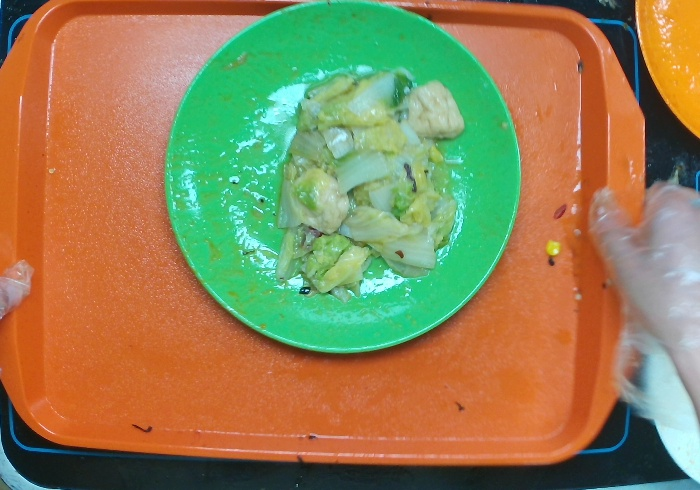HZYJPL-Lv_Se_Yuan_Pan: (147, 1, 528, 372)
